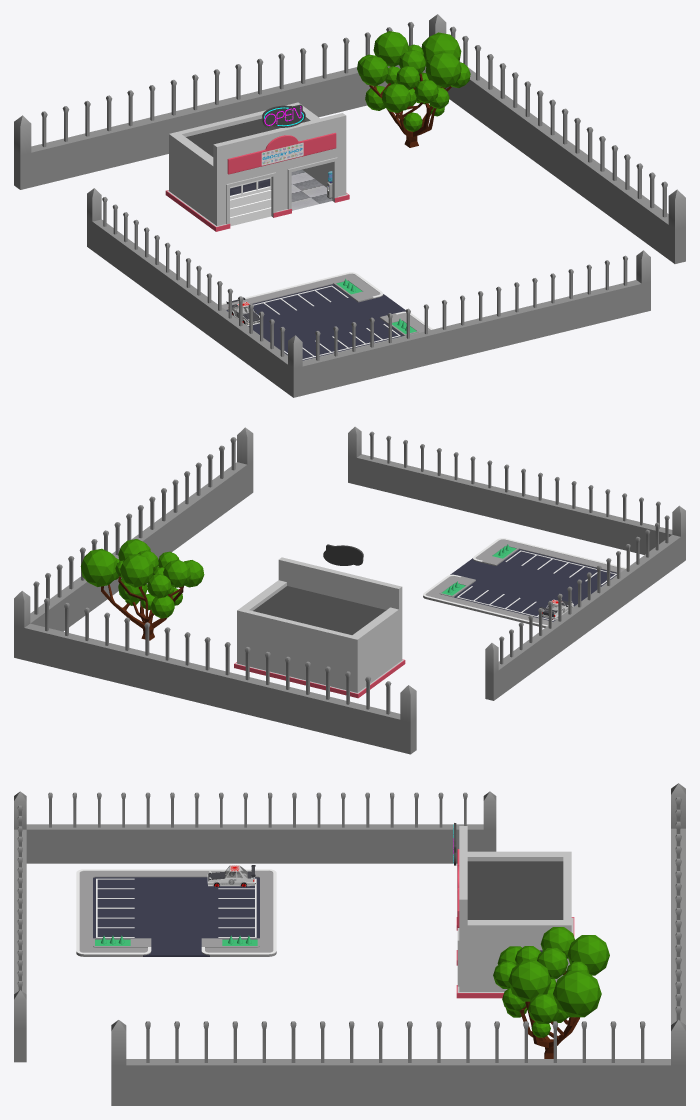
Rendered from shop3.glb.
The picture shows the model from 3 angles, top to bottom: view 1: azimuth 30°, elevation 25°; view 2: azimuth 150°, elevation 25°; view 3: azimuth 270°, elevation 25°; orthographic projection. The views are drawn at different scales.
Parts seen in each view (by area): view 1: Fence (×2), Main building, tree crown, Road, Sign, Garage door, Footpath, Roof, Plane, Lines, trunk and branches, background (+1 smaller); view 2: Fence (×2), Main building, Road, tree crown, Roof, Footpath, Lines, trunk and branches, Bottom section, background; view 3: Fence (×2), Road, tree crown, Main building, Roof, Footpath, Lines, trunk and branches, Concretes, Car frame.
Part boxes in pixels (<box>): Fence (×2): <box>14,14,685,397</box>; Main building: <box>167,102,347,226</box>; tree crown: <box>357,31,470,131</box>; Road: <box>226,284,405,360</box>; Sign: <box>227,132,336,174</box>; Garage door: <box>230,177,271,226</box>; Footpath: <box>221,274,429,360</box>; Roof: <box>186,118,306,156</box>; Plane: <box>291,169,332,210</box>; Lines: <box>221,272,432,359</box>; trunk and branches: <box>369,66,451,147</box>; background: <box>262,104,305,127</box>; Fence (×2): <box>14,426,685,754</box>; Main building: <box>235,557,403,693</box>; Road: <box>450,549,616,621</box>; tree crown: <box>80,539,204,618</box>; Roof: <box>253,586,386,634</box>; Footpath: <box>423,539,624,627</box>; Lines: <box>423,538,626,626</box>; trunk and branches: <box>101,576,183,640</box>; Bottom section: <box>234,659,405,698</box>; background: <box>323,544,363,565</box>; Fence (×2): <box>14,783,685,1105</box>; Road: <box>93,877,259,956</box>; tree crown: <box>493,927,609,1037</box>; Main building: <box>457,826,573,992</box>; Roof: <box>467,861,563,919</box>; Footpath: <box>76,871,276,956</box>; Lines: <box>76,869,276,954</box>; trunk and branches: <box>519,971,579,1058</box>; Concretes: <box>93,938,259,947</box>; Car frame: <box>208,865,254,886</box>.
Bounding box in the file's own units: 6.2 × 1.52 × 7.12.
51 materials, 3 textured.
